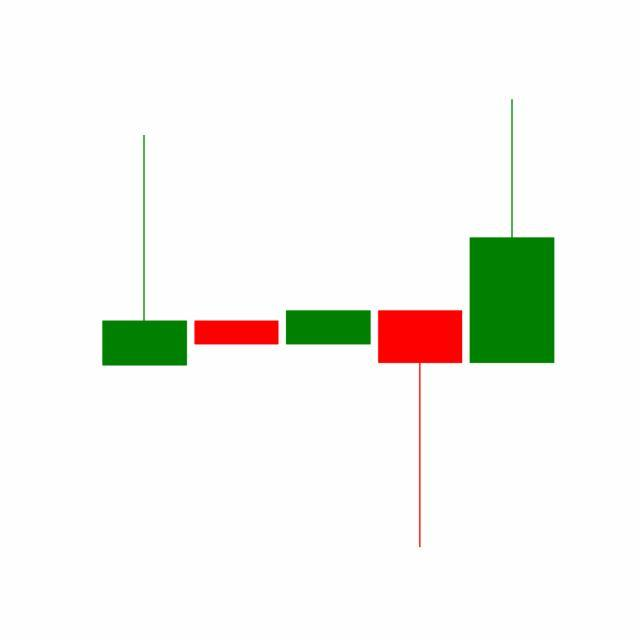Hammer: (374, 309, 468, 552)
